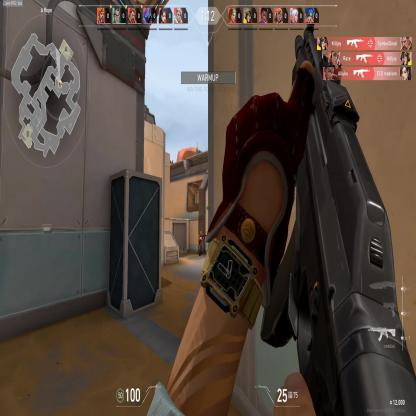enemy: (198, 230, 206, 257)
